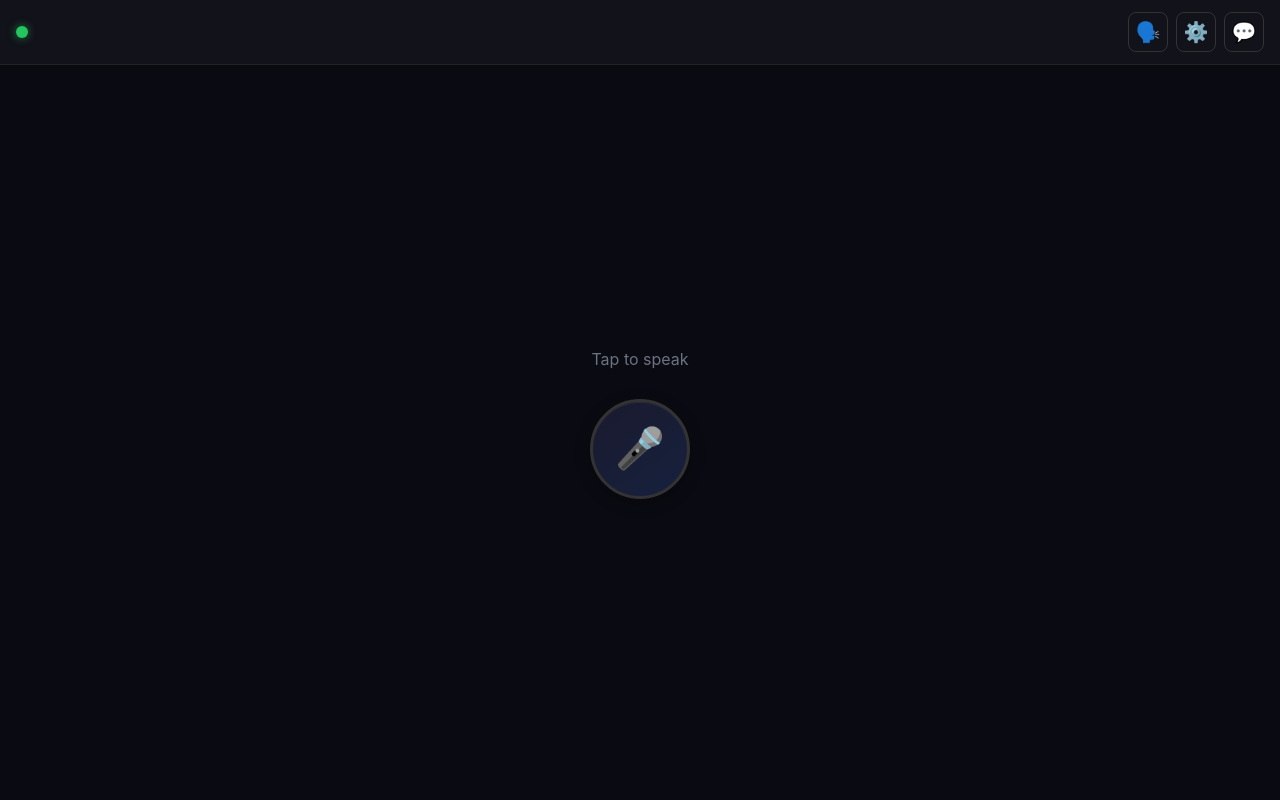
Test: MobileMode › settings modal › opens settings modal when button clicked
The width and height of the screenshot is (1280, 800).
Click the button named "open settings": (1196, 32) left=1176, top=12, right=1216, bottom=52
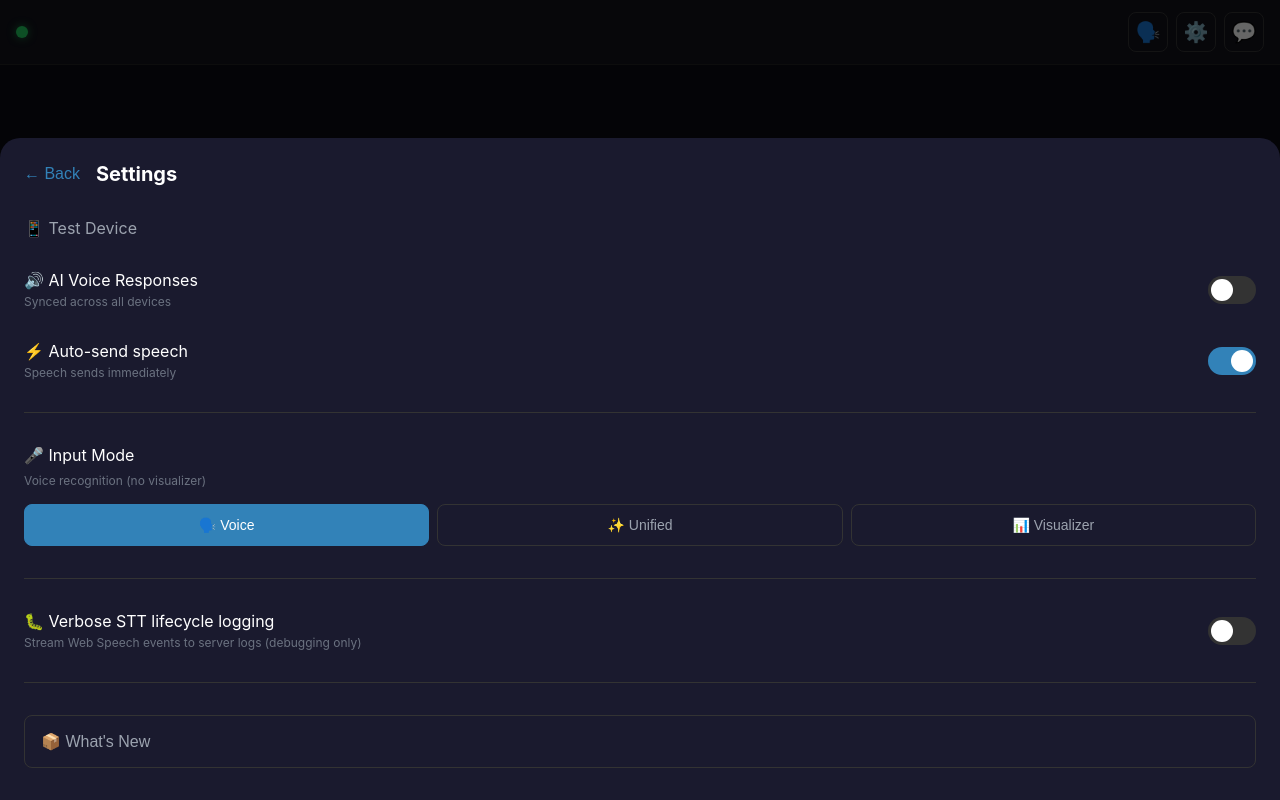
Check: the heading "Settings" is shown, box left=96, top=162, right=177, bottom=186
